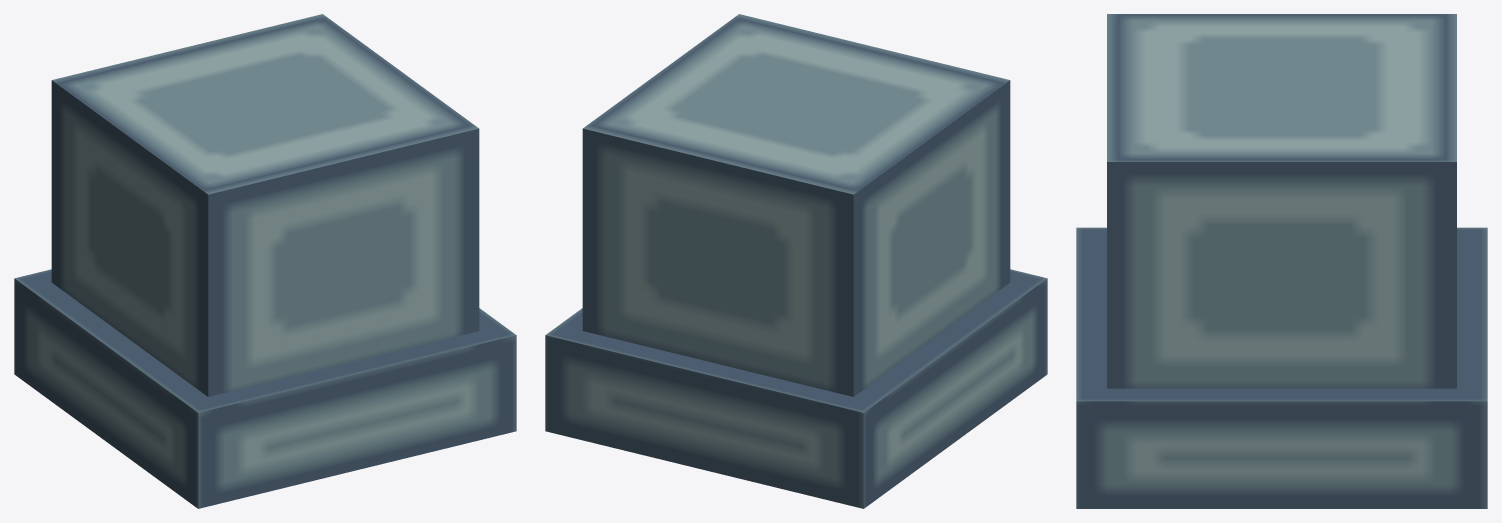
Rendered from statue_base.glb.
The picture shows the model from 3 angles, left to right: view 1: azimuth 30°, elevation 25°; view 2: azimuth 150°, elevation 25°; view 3: azimuth 270°, elevation 25°; orthographic projection. The views are drawn at different scales.
Parts seen in each view (by area): view 1: Cube; view 2: Cube; view 3: Cube.
Boxes of the visible parts, <box> form: Cube: <box>14,14,516,508</box>; Cube: <box>545,14,1047,508</box>; Cube: <box>1076,14,1487,508</box>.
Size of the model in its own units: 2.35 by 2.11 by 2.35.
1 material, 1 textured.
